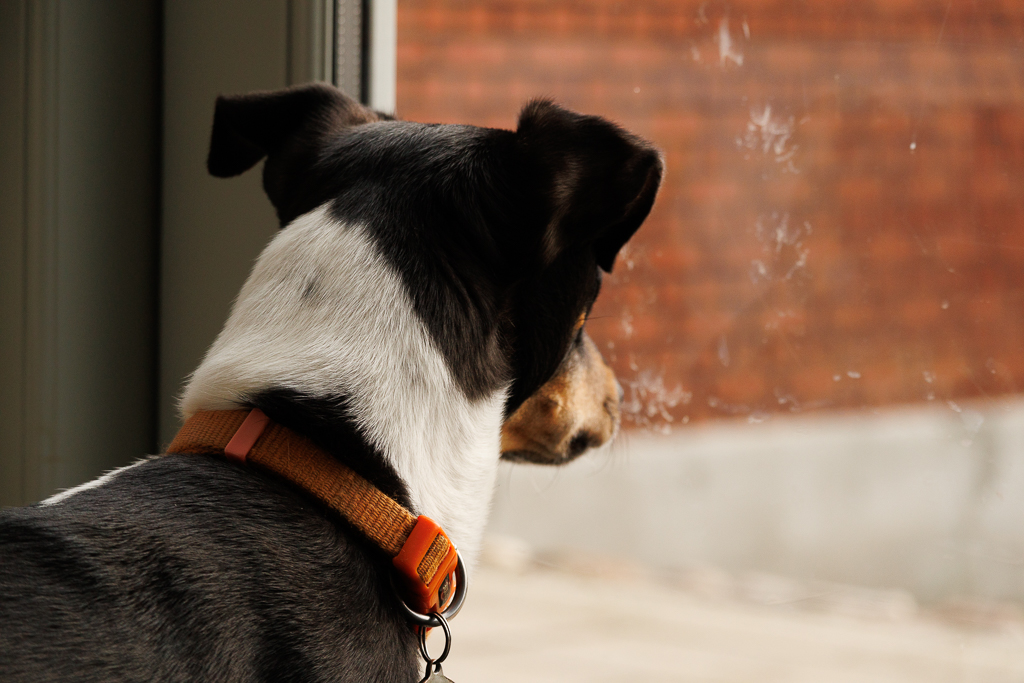Dog: (0, 75, 673, 683)
